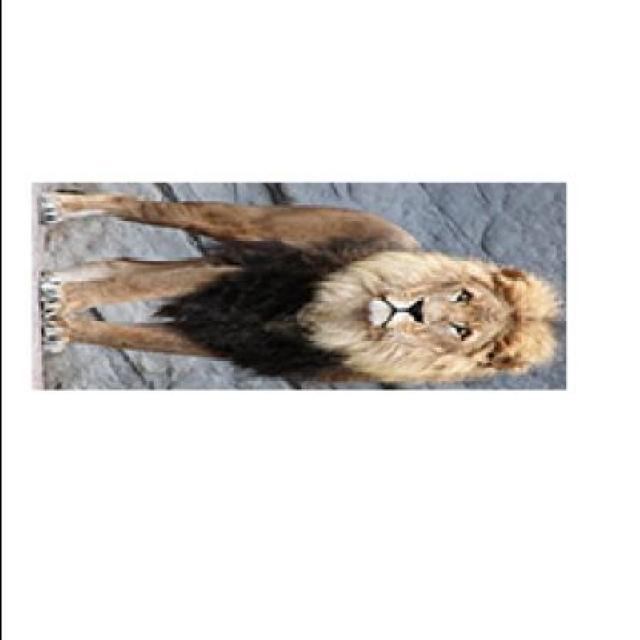Lion: (3, 157, 579, 415)
